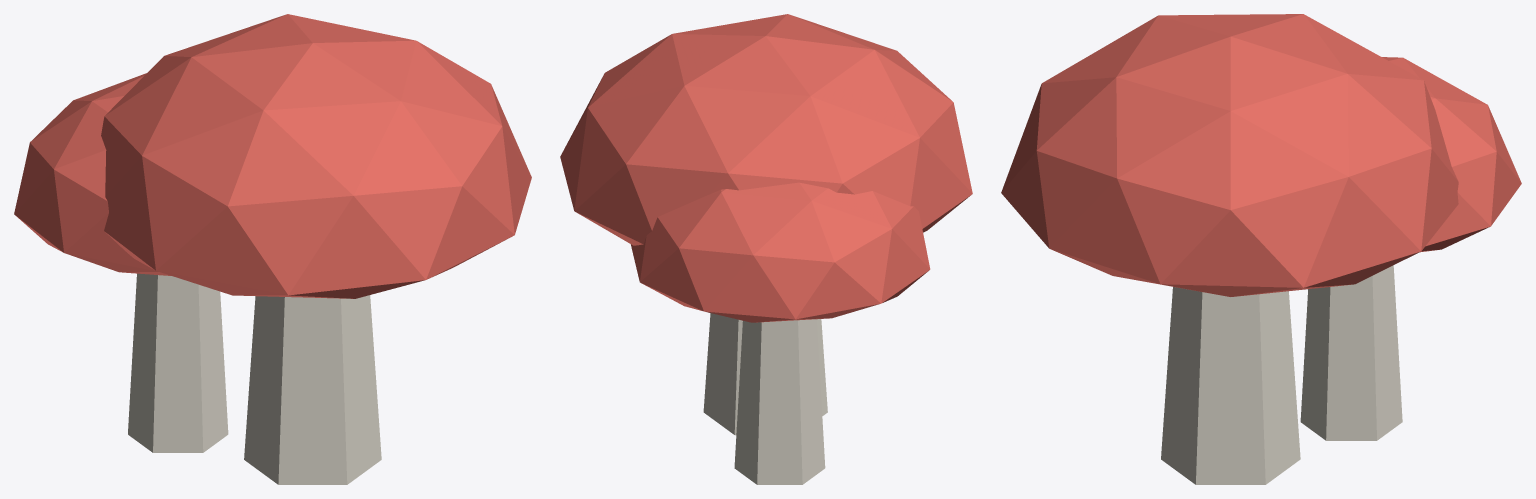
File: Mushroom_Red_A.glb
3 renders of one model, left to right at view 1: azimuth 30°, elevation 25°; view 2: azimuth 150°, elevation 25°; view 3: azimuth 270°, elevation 25°, orthographic. The views are drawn at different scales.
Parts seen in each view (by area): view 1: Mushroom_Red_A; view 2: Mushroom_Red_A; view 3: Mushroom_Red_A.
Boxes of the visible parts, bbox=[...] form: Mushroom_Red_A: bbox=[14, 14, 531, 484]; Mushroom_Red_A: bbox=[560, 14, 972, 484]; Mushroom_Red_A: bbox=[1001, 14, 1521, 484].
Bounding box in the file's own units: 0.4609 × 0.4507 × 0.5031.
